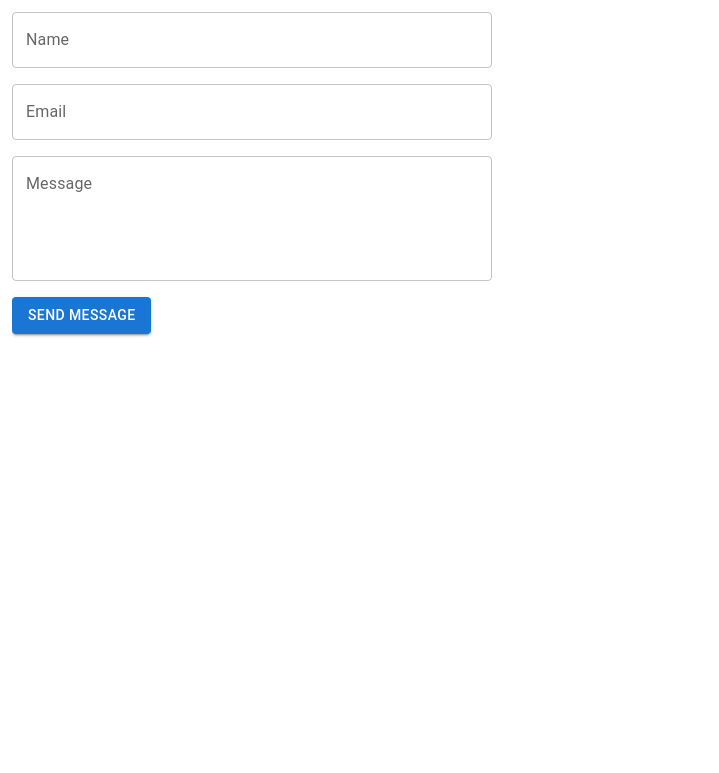
Test: shows a success message after a successful submission
Type "Ada Lovelace" into the field labelled "Name" at coordinates (252, 40), box [12,12,492,68]
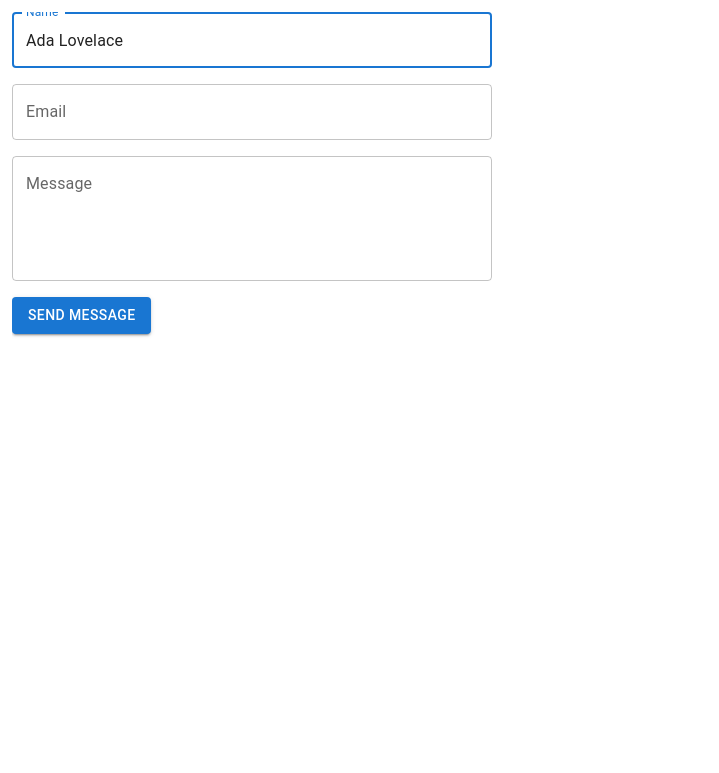
Type "ada@example.com" into the field labelled "Email" at coordinates (252, 112), box [12,84,492,140]
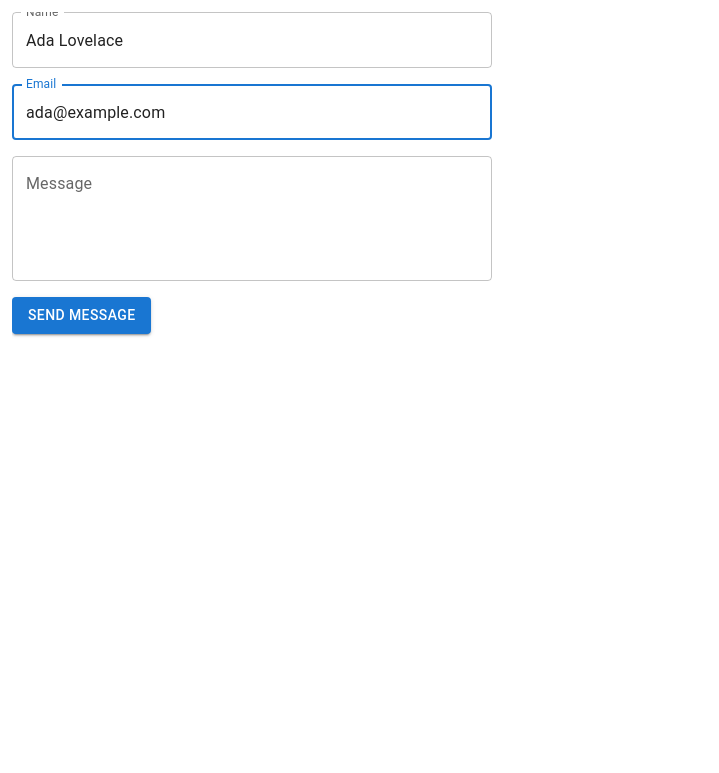
Type "Let's build something." into the text box labelled "Message" at coordinates (252, 218), box [26,172,478,264]
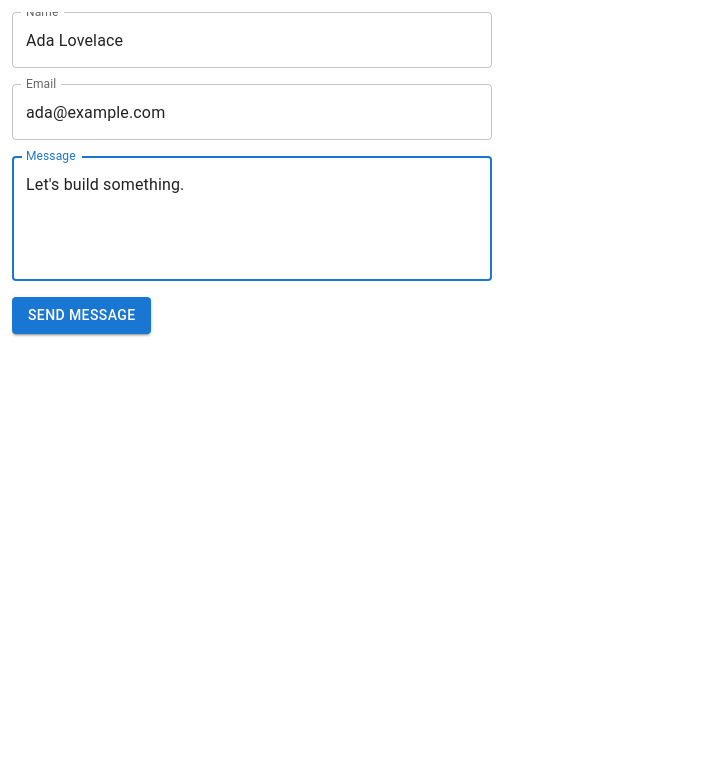
Click the button "Send message" at coordinates (82, 315), box [12,297,152,334]
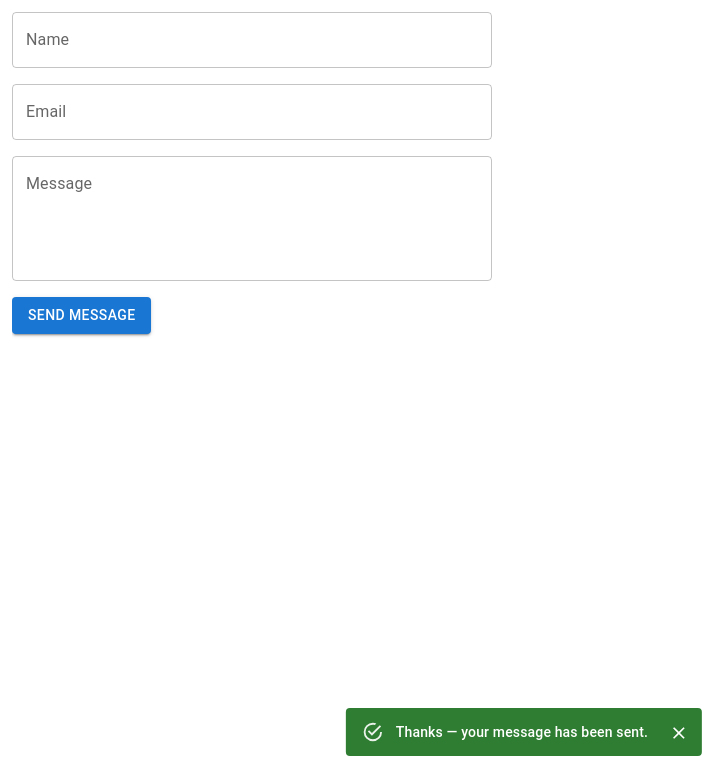
expect the text "Thanks — your message has been sent." is shown: met, box [396,724,648,740]
expect the field labelled "Name" is empty: met, box [12,12,492,68]
expect the field labelled "Email" is empty: met, box [12,84,492,140]
